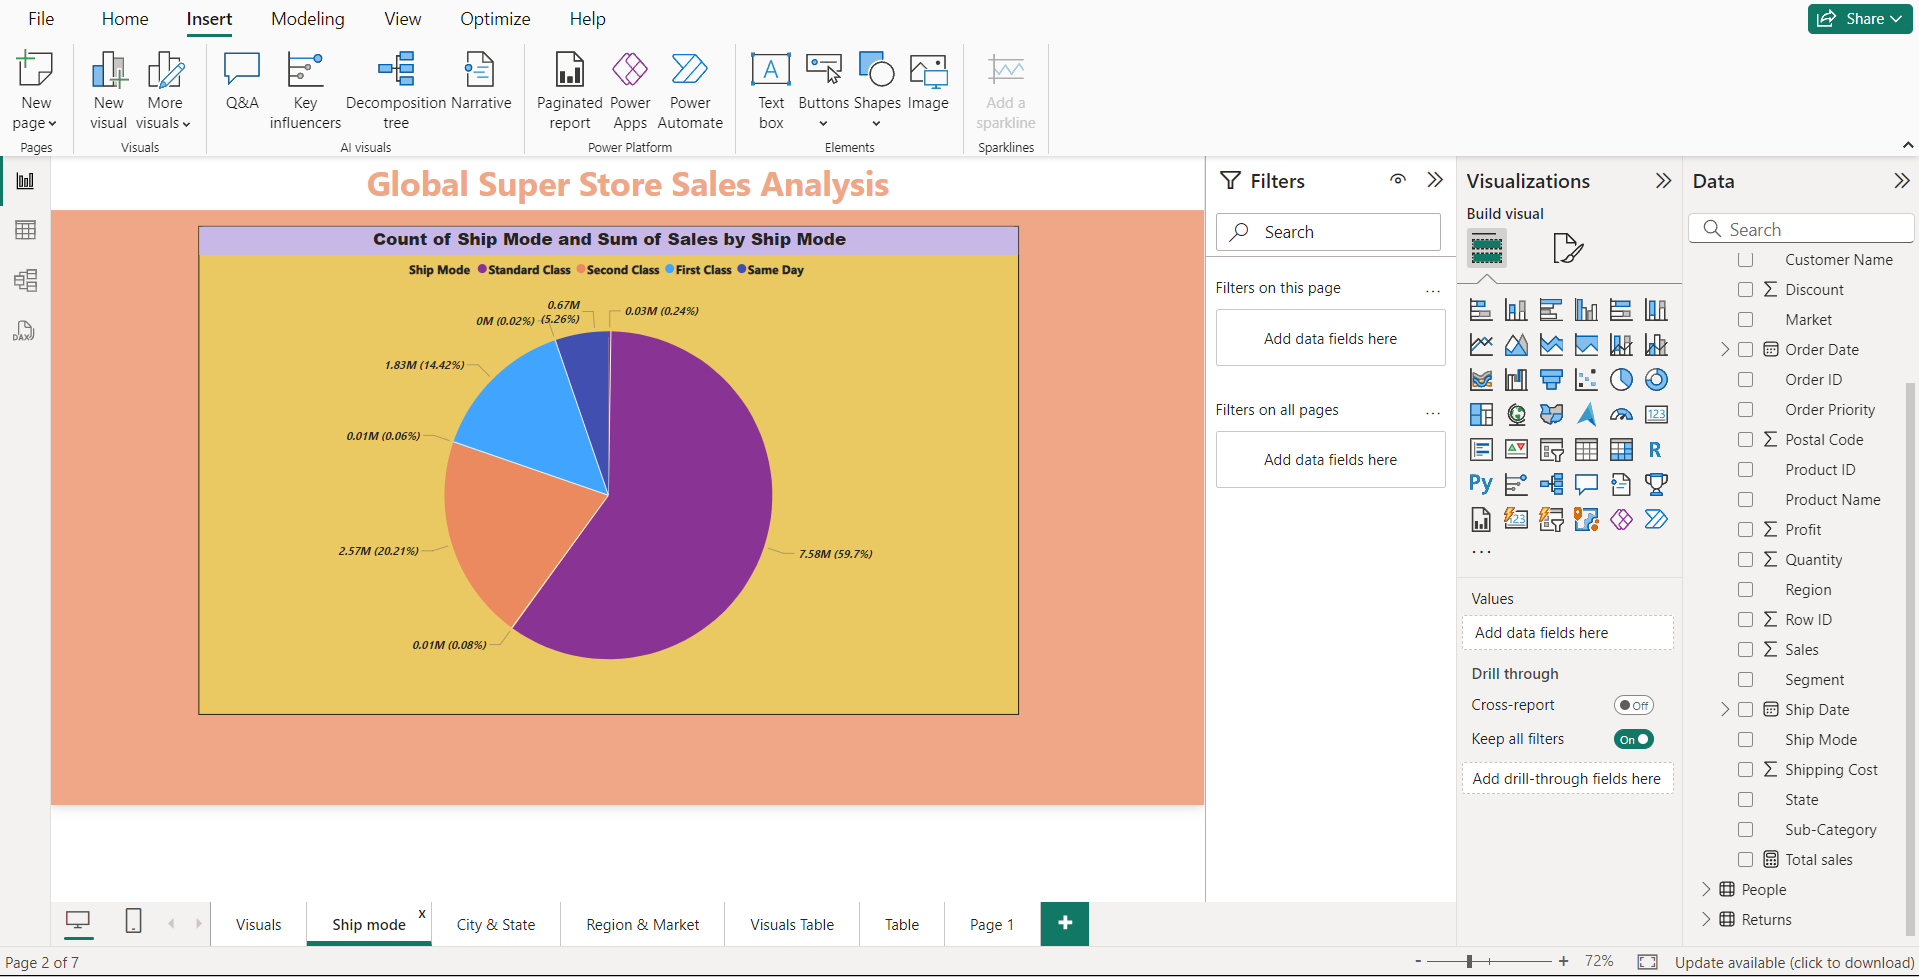

Layout of this report page (visuals, bound fields, positions):
{"tool":"powerbi","page":{"name":"Ship mode","canvas":[1280,720],"ordinal":1},"visuals":[{"type":"textbox","box":[0,0,1280.3,60.4],"z":0},{"type":"pieChart","fields":{"Category":["Orders.Ship Mode"],"Y":["CountNonNull(Orders.Ship Mode)","Sum(Orders.Sales)"]},"box":[164.2,77.3,910.5,542.2],"z":1}]}

Visuals, with their boxes on the page's 1280x720 design canvas (x1, y1, x2, y2). These are canvas units, not pixel positions in the 1919x977 screenshot, which may show the page scaled, cropped or inside an application window:
textbox: [x1=0, y1=0, x2=1280, y2=60]
pieChart - Orders.Ship Mode x CountNonNull(Orders.Ship Mode): [x1=164, y1=77, x2=1075, y2=620]
